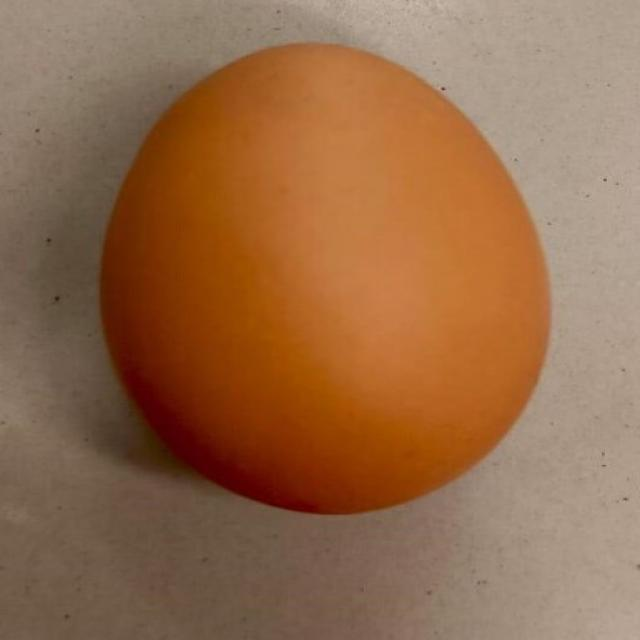fresh: (101, 37, 548, 514)
